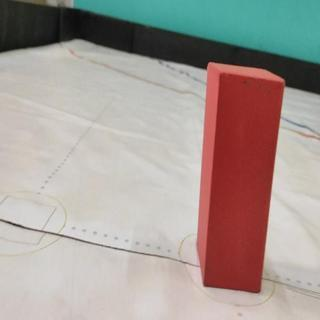redbox: (195, 62, 285, 295)
